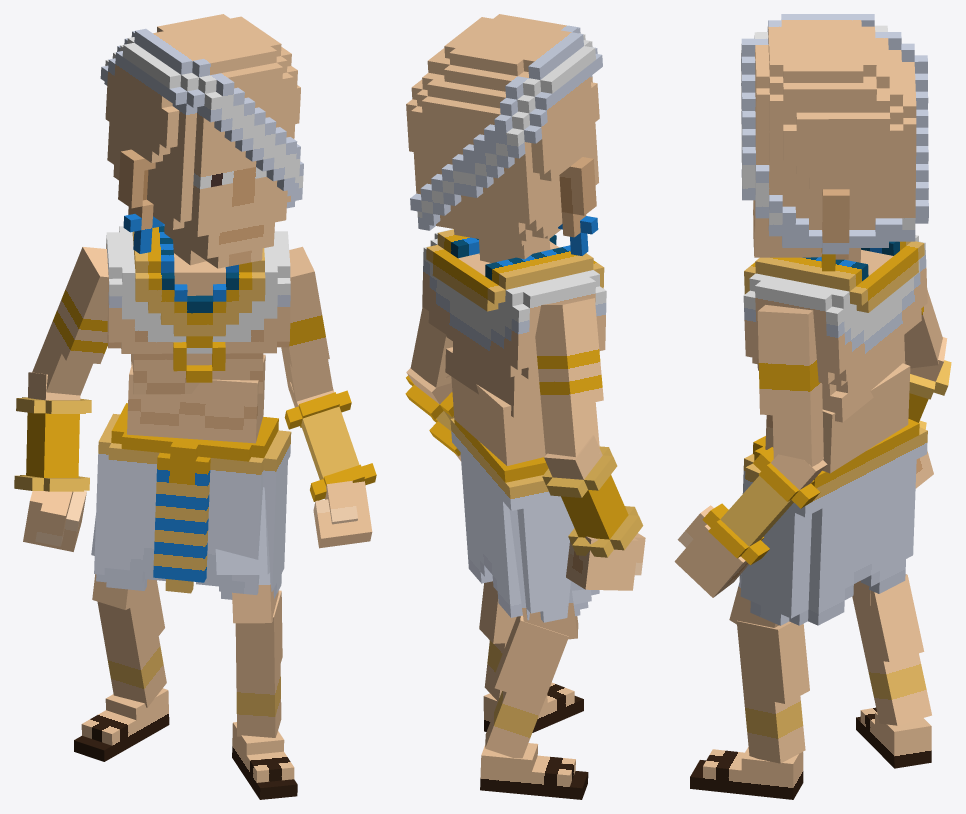
File: atum_musa.glb
The picture shows the model from 3 angles, left to right: view 1: azimuth 30°, elevation 25°; view 2: azimuth 150°, elevation 25°; view 3: azimuth 270°, elevation 25°; orthographic projection. The views are drawn at different scales.
Visible parts, largest first — view 1: Head-Local, Hip-Local, Chest-Local, Belly-Local, Right_Arm-Local, Right_Forearm-Local, Right_Leg-Local, Left_Leg-Local, Left_Arm-Local, Left_Forearm-Local, Right_Foot-Local, Left_Foot-Local (+4 smaller); view 2: Head-Local, Chest-Local, Hip-Local, Right_Arm-Local, Right_Forearm-Local, Right_Leg-Local, Belly-Local, Right_Foot-Local, Right_Hand-Local, Left_Leg-Local, Left_Forearm-Local, Left_Arm-Local (+2 smaller); view 3: Head-Local, Hip-Local, Chest-Local, Left_Arm-Local, Left_Leg-Local, Right_Leg-Local, Left_Forearm-Local, Belly-Local, Left_Foot-Local, Left_Hand-Local, Right_Foot-Local, Right_Forearm-Local (+2 smaller).
Boxes of the visible parts, x1=… form: Head-Local: x1=100, y1=14, x2=303, y2=268; Hip-Local: x1=94, y1=403, x2=291, y2=599; Chest-Local: x1=106, y1=224, x2=290, y2=394; Belly-Local: x1=127, y1=354, x2=265, y2=443; Right_Arm-Local: x1=32, y1=247, x2=108, y2=395; Right_Forearm-Local: x1=14, y1=372, x2=91, y2=491; Right_Leg-Local: x1=97, y1=580, x2=166, y2=707; Left_Leg-Local: x1=235, y1=590, x2=282, y2=737; Left_Arm-Local: x1=281, y1=246, x2=333, y2=405; Left_Forearm-Local: x1=284, y1=382, x2=376, y2=501; Right_Foot-Local: x1=74, y1=688, x2=169, y2=761; Left_Foot-Local: x1=232, y1=722, x2=297, y2=799; Head-Local: x1=406, y1=14, x2=602, y2=263; Chest-Local: x1=422, y1=229, x2=606, y2=417; Hip-Local: x1=450, y1=416, x2=599, y2=622; Right_Arm-Local: x1=535, y1=298, x2=603, y2=456; Right_Forearm-Local: x1=542, y1=435, x2=643, y2=557; Right_Leg-Local: x1=485, y1=615, x2=568, y2=758; Belly-Local: x1=451, y1=376, x2=545, y2=465; Right_Foot-Local: x1=480, y1=743, x2=588, y2=799; Right_Hand-Local: x1=566, y1=533, x2=645, y2=590; Left_Leg-Local: x1=479, y1=581, x2=516, y2=701; Left_Forearm-Local: x1=405, y1=368, x2=460, y2=456; Left_Arm-Local: x1=410, y1=307, x2=452, y2=387; Head-Local: x1=741, y1=14, x2=928, y2=271; Hip-Local: x1=739, y1=418, x2=927, y2=625; Chest-Local: x1=743, y1=235, x2=927, y2=422; Left_Arm-Local: x1=757, y1=305, x2=823, y2=466; Left_Leg-Local: x1=736, y1=620, x2=809, y2=763; Right_Leg-Local: x1=852, y1=574, x2=931, y2=725; Left_Forearm-Local: x1=702, y1=447, x2=827, y2=565; Belly-Local: x1=765, y1=363, x2=910, y2=473; Left_Foot-Local: x1=690, y1=747, x2=803, y2=799; Left_Hand-Local: x1=674, y1=505, x2=748, y2=597; Right_Foot-Local: x1=856, y1=707, x2=931, y2=768; Right_Forearm-Local: x1=908, y1=337, x2=951, y2=429.
Bounding box in the file's own units: 24.67 × 61.17 × 20.79.
14 materials, 14 textured.
